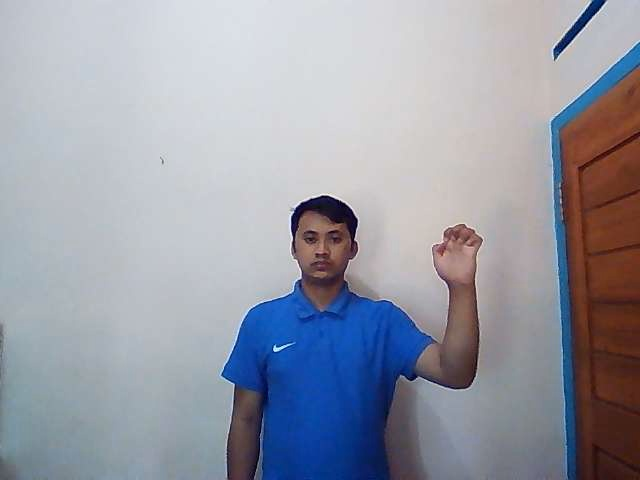E: (430, 223, 483, 288)
